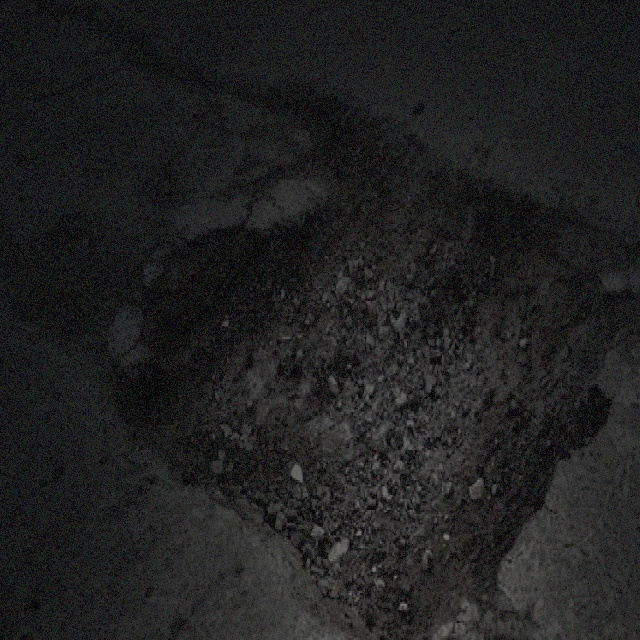pothole: (111, 85, 618, 638)
